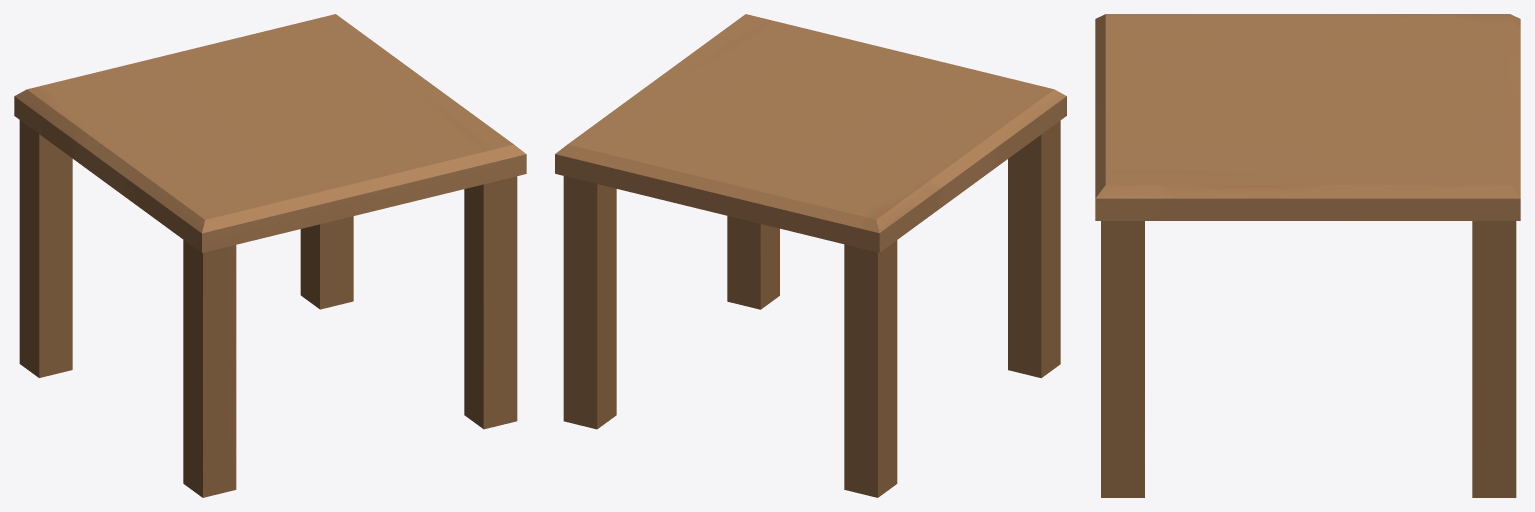
The model's file is Tiny Table.fbx.
3 renders of one model, left to right at view 1: azimuth 30°, elevation 25°; view 2: azimuth 150°, elevation 25°; view 3: azimuth 270°, elevation 25°, orthographic. The views are drawn at different scales.
Visible parts, largest first — view 1: Cube.002; view 2: Cube.002; view 3: Cube.002.
Boxes of the visible parts, <box> form: Cube.002: <box>14,14,526,497</box>; Cube.002: <box>555,14,1066,497</box>; Cube.002: <box>1095,14,1520,497</box>.
Size of the model in its own units: 191 by 155 by 191.
